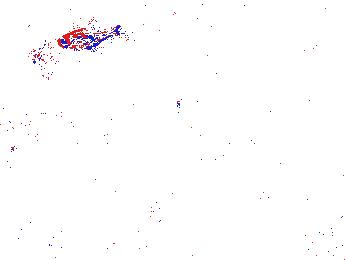X-ray fish: (1, 87, 40, 126), (27, 42, 64, 72), (49, 1, 102, 20)
red belly glassfish: (57, 22, 120, 52), (285, 41, 323, 61)
